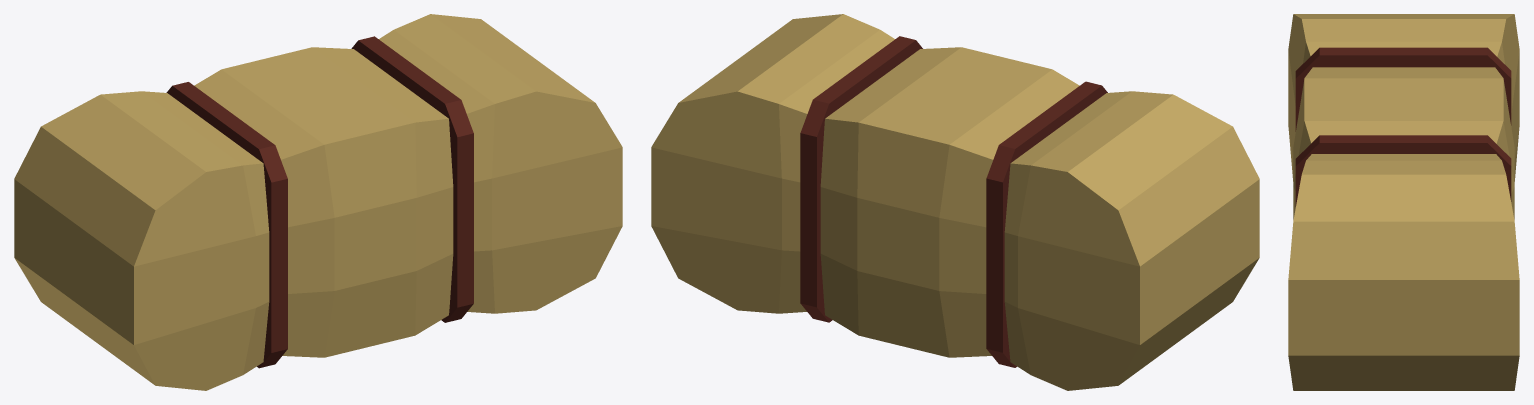
Rendered from Jam.Haybale.fbx.
3 views of the same model, side by side, from view 1: azimuth 30°, elevation 25°; view 2: azimuth 150°, elevation 25°; view 3: azimuth 270°, elevation 25° (orthographic). The views are drawn at different scales.
Visible parts, largest first — view 1: Cube.002; view 2: Cube.002; view 3: Cube.002.
Part boxes in pixels (x1,y1,x2,y2): Cube.002: (14, 14, 622, 390); Cube.002: (651, 14, 1259, 390); Cube.002: (1288, 14, 1519, 390).
Bounding box in the file's own units: 506 × 217 × 215.
